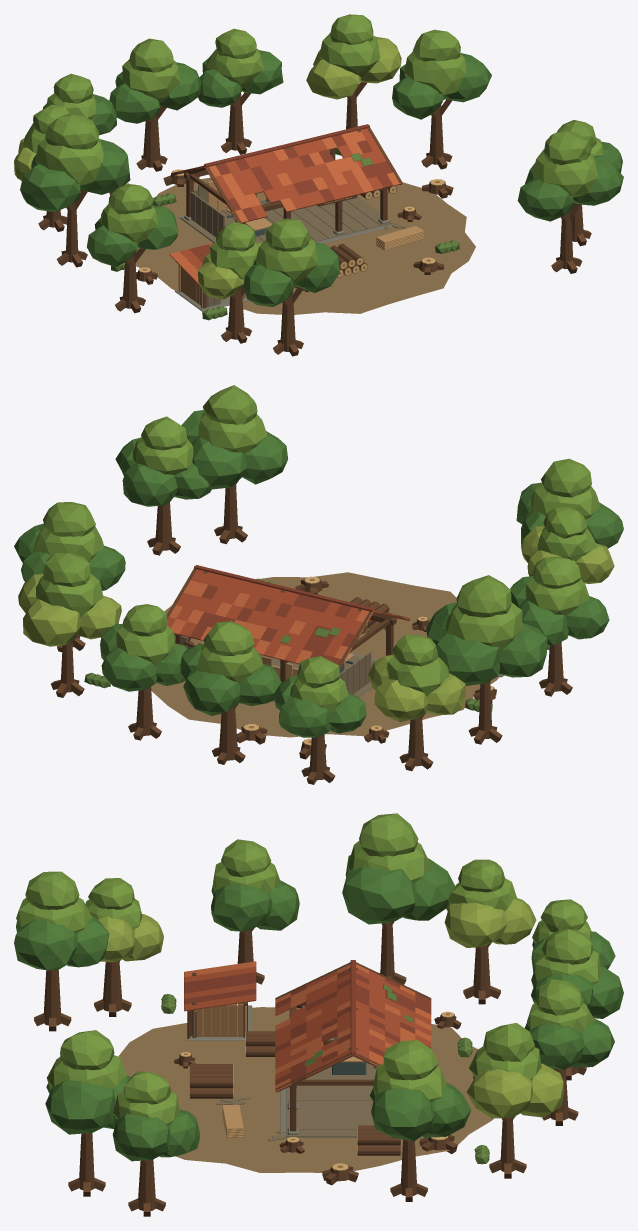
Rendered from OldForestSawmill.glb.
3 views of the same model, one above another, from view 1: azimuth 30°, elevation 25°; view 2: azimuth 150°, elevation 25°; view 3: azimuth 270°, elevation 25° (orthographic). The views are drawn at different scales.
Visible parts, largest first — view 1: Yard_Dirt, Mill_Roof, Mill_WoodOld, Tree06_Leaf, Tree06_LeafLight, Mill_RoofDark, Tree11_Leaf, Tree11_LeafLight, Mill_RoofLight, Tree05_LeafLight, Tree09_Leaf, Tree09_LeafLight (+33 smaller); view 2: Yard_Dirt, Mill_Roof, Tree06_Leaf, Tree06_LeafLight, Tree11_Leaf, Tree04_LeafGold, Tree02_Leaf, Mill_RoofDark, Tree11_LeafLight, Tree00_LeafGold, Tree10_Leaf, Tree01_Leaf (+28 smaller); view 3: Yard_Dirt, Mill_Roof, Tree06_Leaf, Yard_Beam, Mill_WoodOld, Tree05_Leaf, Tree04_LeafGold, Tree09_Leaf, Mill_RoofDark, Tree07_Leaf, Tree06_LeafLight, Tree00_LeafGold (+34 smaller).
Boxes of the visible parts, <box> form: Yard_Dirt: <box>135,177,475,314</box>; Mill_Roof: <box>191,127,388,219</box>; Mill_WoodOld: <box>181,152,392,242</box>; Tree06_Leaf: <box>20,139,130,212</box>; Tree06_LeafLight: <box>36,113,103,185</box>; Mill_RoofDark: <box>171,124,395,221</box>; Tree11_Leaf: <box>517,155,623,221</box>; Tree11_LeafLight: <box>533,129,597,197</box>; Mill_RoofLight: <box>177,130,402,223</box>; Tree05_LeafLight: <box>404,29,466,95</box>; Tree09_Leaf: <box>243,243,339,306</box>; Tree09_LeafLight: <box>255,218,318,284</box>; Yard_Dirt: <box>151,572,499,737</box>; Mill_Roof: <box>167,569,395,663</box>; Tree06_Leaf: <box>426,602,547,685</box>; Tree06_LeafLight: <box>445,575,522,650</box>; Tree11_Leaf: <box>181,410,287,489</box>; Tree04_LeafGold: <box>18,573,121,646</box>; Tree02_Leaf: <box>180,644,281,715</box>; Mill_RoofDark: <box>190,565,403,669</box>; Tree11_LeafLight: <box>198,385,267,453</box>; Tree00_LeafGold: <box>368,654,465,722</box>; Tree10_Leaf: <box>115,437,212,506</box>; Tree01_Leaf: <box>273,675,366,737</box>; Yard_Dirt: <box>118,1007,493,1172</box>; Mill_Roof: <box>275,969,431,1079</box>; Tree06_Leaf: <box>342,855,455,924</box>; Yard_Beam: <box>173,1005,461,1185</box>; Mill_WoodOld: <box>286,1036,376,1137</box>; Tree05_Leaf: <box>369,1082,471,1140</box>; Tree04_LeafGold: <box>466,1063,564,1118</box>; Tree09_Leaf: <box>14,915,109,970</box>; Mill_RoofDark: <box>275,960,431,1085</box>; Tree07_Leaf: <box>211,880,299,931</box>; Tree06_LeafLight: <box>348,813,430,883</box>; Tree00_LeafGold: <box>444,898,536,947</box>.
Size of the model in its own units: 42.84 by 12.22 by 39.77.
